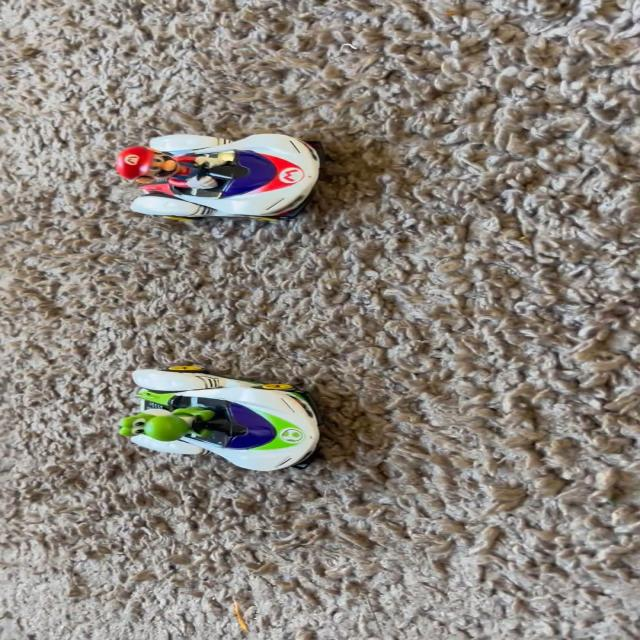mario: (105, 120, 340, 233)
yoshi: (110, 345, 340, 485)
